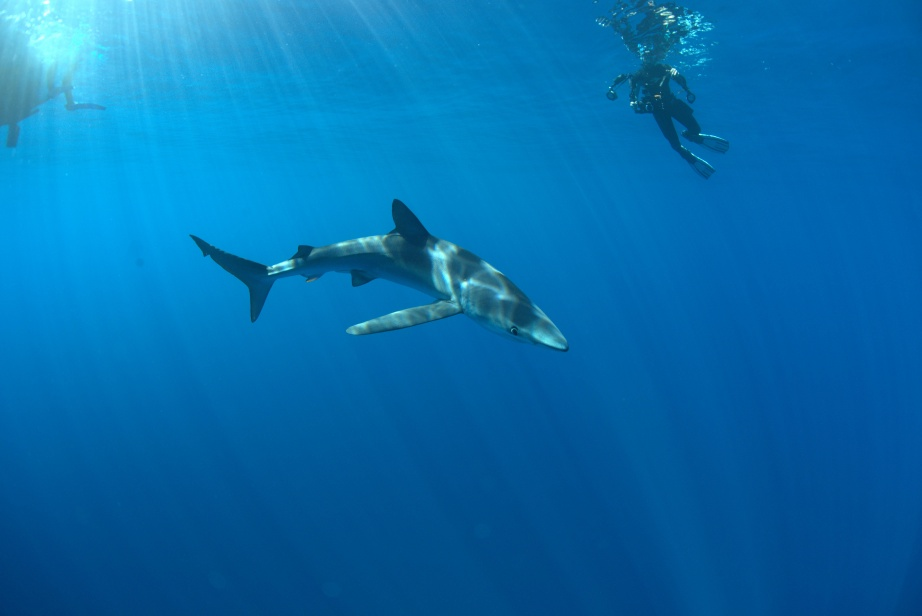Azul: (175, 185, 576, 368)
